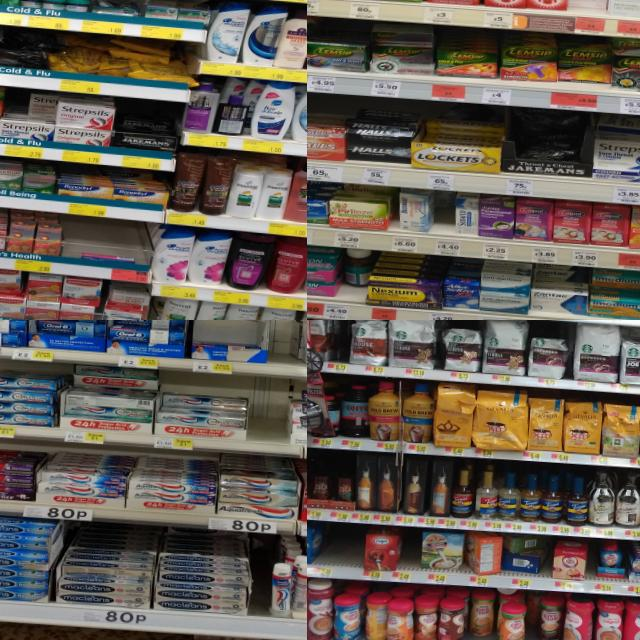100- O.O.S: (62, 219, 150, 279), (248, 386, 290, 454), (321, 522, 365, 578), (248, 558, 274, 633), (265, 320, 295, 374), (399, 526, 422, 582), (334, 320, 351, 373), (267, 320, 286, 362)
